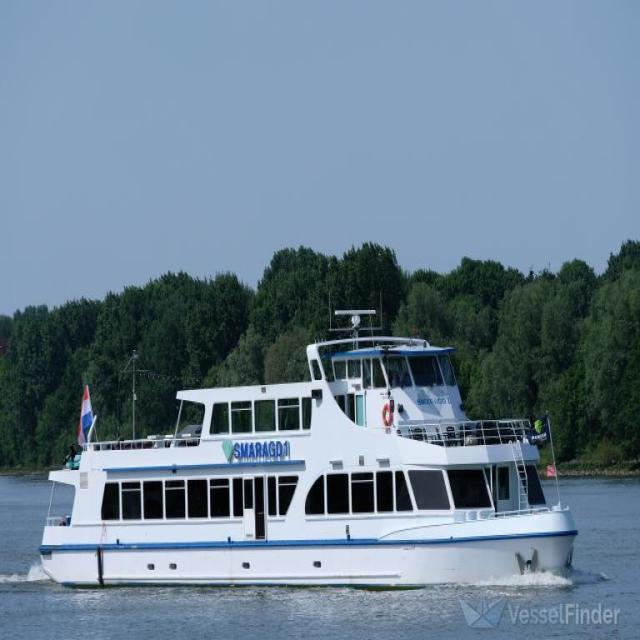PassengerShip: (38, 274, 636, 604)
